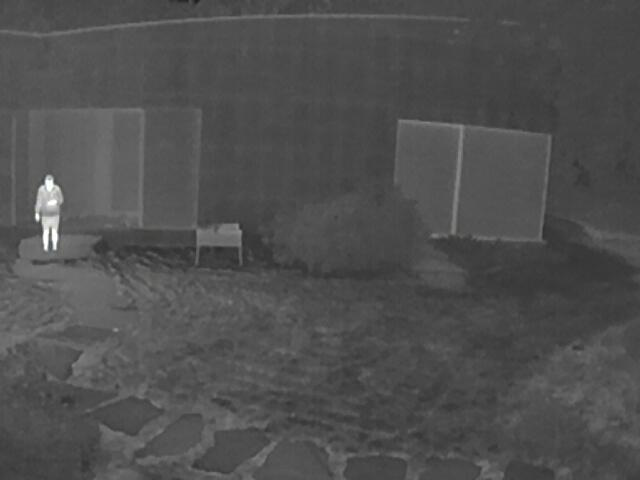person: (34, 174, 62, 252)
